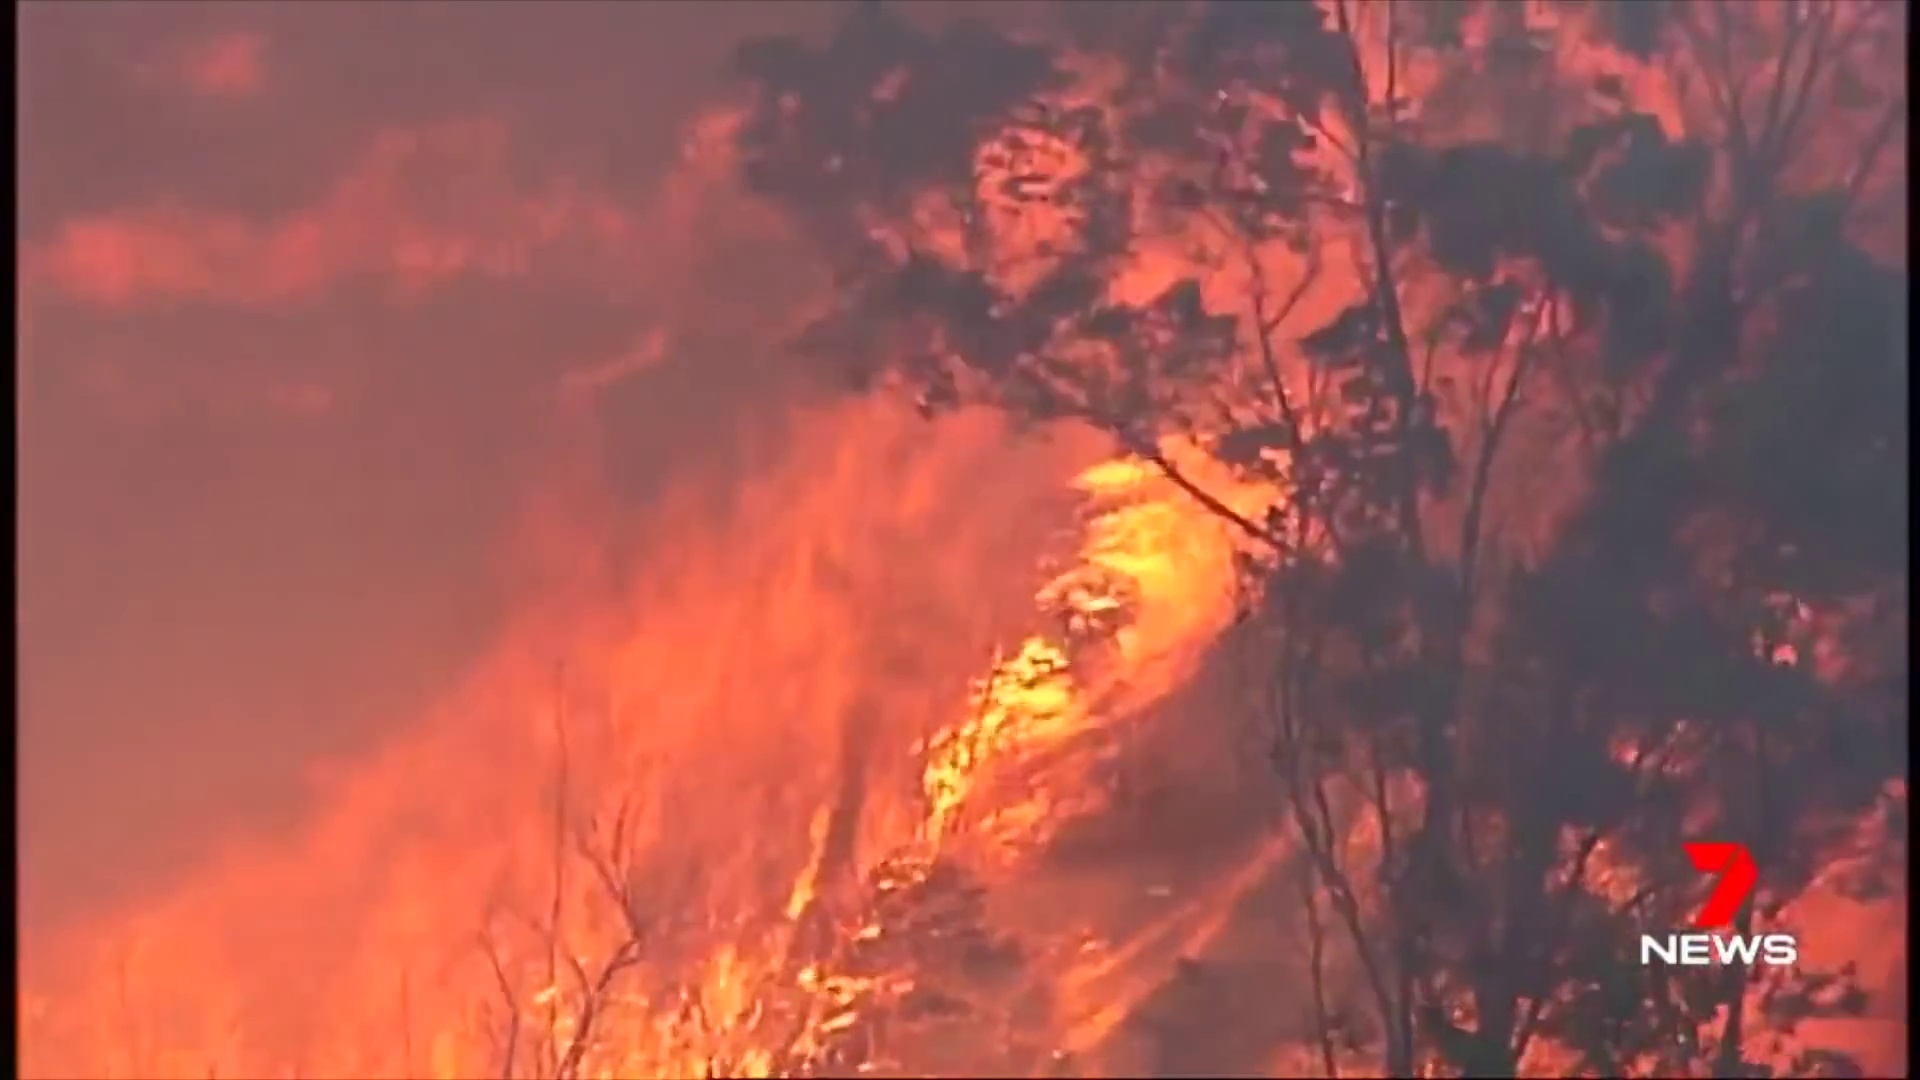fire: (924, 634, 1069, 787), (1069, 456, 1172, 608), (795, 963, 857, 1022)
